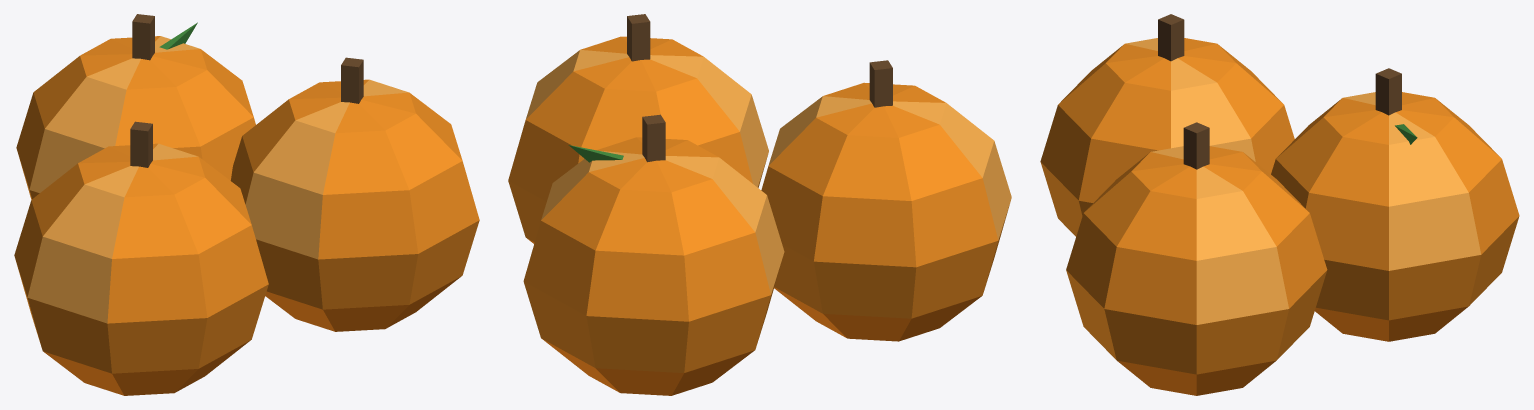
File: orange-crop.glb
3 renders of one model, left to right at view 1: azimuth 30°, elevation 25°; view 2: azimuth 150°, elevation 25°; view 3: azimuth 270°, elevation 25°, orthographic. The views are drawn at different scales.
Visible parts, largest first — view 1: orange-crop; view 2: orange-crop; view 3: orange-crop.
Part boxes in pixels (box(x1,y1,x2,y2)): orange-crop: box(14, 14, 479, 395); orange-crop: box(508, 14, 1011, 395); orange-crop: box(1040, 14, 1519, 395).
Bounding box in the file's own units: 0.404 × 0.2203 × 0.374.
1 material, 1 textured.
